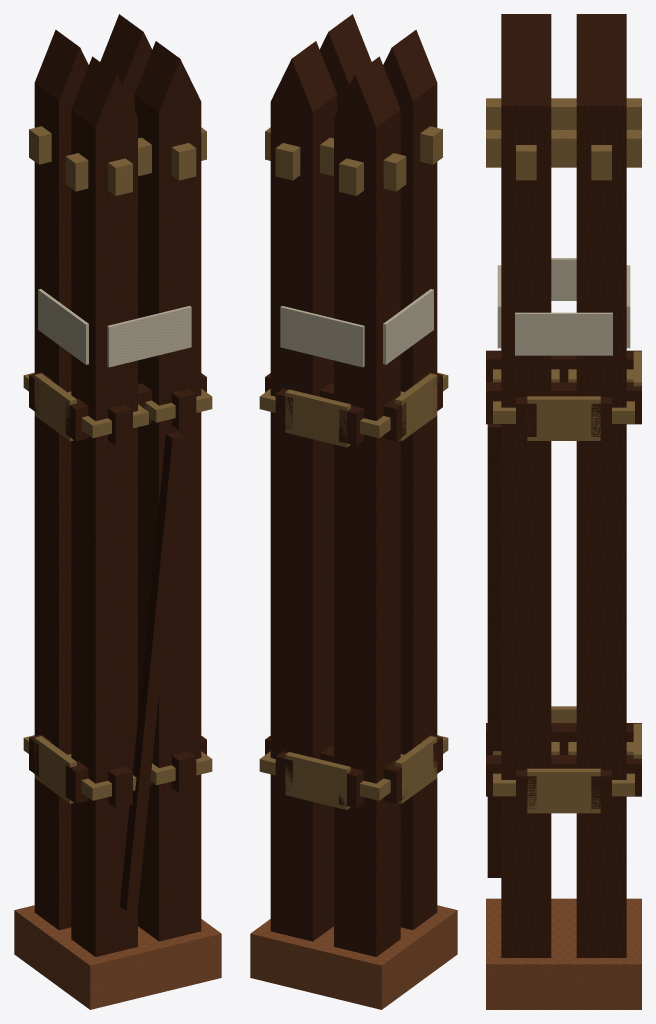
File: Berber_PalisadeBastion_Age2_junction_T.fbx
The picture shows the model from 3 angles, left to right: view 1: azimuth 30°, elevation 25°; view 2: azimuth 150°, elevation 25°; view 3: azimuth 270°, elevation 25°; orthographic projection. The views are drawn at different scales.
Parts seen in each view (by area): view 1: split_timber_upright.012, split_timber_upright.014, split_timber_upright.013, compacted_earth_footing.003, terminal_diagonal_stay.014, native_owner_stripe_source.014, split_timber_upright.015, native_owner_stripe_source.012, exposed_wall_socket_collar.015, exposed_wall_socket_collar.014, locking_head_tie_x.006, bundle_cross_tie_x.014 (+11 smaller); view 2: split_timber_upright.013, split_timber_upright.015, split_timber_upright.012, compacted_earth_footing.003, native_owner_stripe_source.015, exposed_wall_socket_collar.012, exposed_wall_socket_collar.013, split_timber_upright.014, native_owner_stripe_source.012, exposed_wall_socket_collar.015, exposed_wall_socket_collar.014, locking_head_tie_x.007 (+9 smaller); view 3: split_timber_upright.014, split_timber_upright.015, compacted_earth_footing.003, terminal_diagonal_stay.014, native_owner_stripe_source.013, exposed_wall_socket_collar.010, exposed_wall_socket_collar.011, locking_head_tie_y.007, locking_head_tie_y.006, split_timber_upright.012, split_timber_upright.013, bundle_cross_tie_y.015 (+13 smaller).
Boxes of the visible parts, box(x1,y1,x2,y2) form: split_timber_upright.012: box(71, 56, 137, 956); split_timber_upright.014: box(134, 41, 201, 941); split_timber_upright.013: box(34, 30, 88, 930); compacted_earth_footing.003: box(14, 905, 221, 1009); terminal_diagonal_stay.014: box(119, 432, 183, 911); native_owner_stripe_source.014: box(107, 306, 191, 367); split_timber_upright.015: box(100, 14, 152, 109); native_owner_stripe_source.012: box(38, 289, 88, 364); exposed_wall_socket_collar.015: box(34, 373, 76, 441); exposed_wall_socket_collar.014: box(34, 736, 76, 803); locking_head_tie_x.006: box(65, 127, 206, 191); bundle_cross_tie_x.014: box(65, 373, 206, 441); split_timber_upright.013: box(334, 56, 400, 956); split_timber_upright.015: box(270, 41, 337, 941); split_timber_upright.012: box(383, 30, 437, 930); compacted_earth_footing.003: box(250, 905, 457, 1009); native_owner_stripe_source.015: box(280, 306, 364, 367); exposed_wall_socket_collar.012: box(285, 752, 350, 809); exposed_wall_socket_collar.013: box(285, 389, 350, 447); split_timber_upright.014: box(319, 14, 371, 109); native_owner_stripe_source.012: box(383, 289, 433, 364); exposed_wall_socket_collar.015: box(395, 373, 437, 441); exposed_wall_socket_collar.014: box(395, 736, 437, 803); locking_head_tie_x.007: box(265, 127, 406, 191); split_timber_upright.014: box(501, 46, 551, 957); split_timber_upright.015: box(576, 46, 626, 957); compacted_earth_footing.003: box(486, 898, 641, 1009); terminal_diagonal_stay.014: box(487, 424, 501, 877); native_owner_stripe_source.013: box(515, 312, 612, 355); exposed_wall_socket_collar.010: box(527, 768, 600, 813); exposed_wall_socket_collar.011: box(527, 396, 600, 440); locking_head_tie_y.007: box(486, 130, 641, 167); locking_head_tie_y.006: box(486, 98, 641, 129); split_timber_upright.012: box(501, 14, 551, 45); split_timber_upright.013: box(576, 14, 626, 45); bundle_cross_tie_y.015: box(486, 382, 641, 424).
Size of the model in its own units: 68.29 by 458 by 68.29.
Materials: 4 (4 with a texture image).
